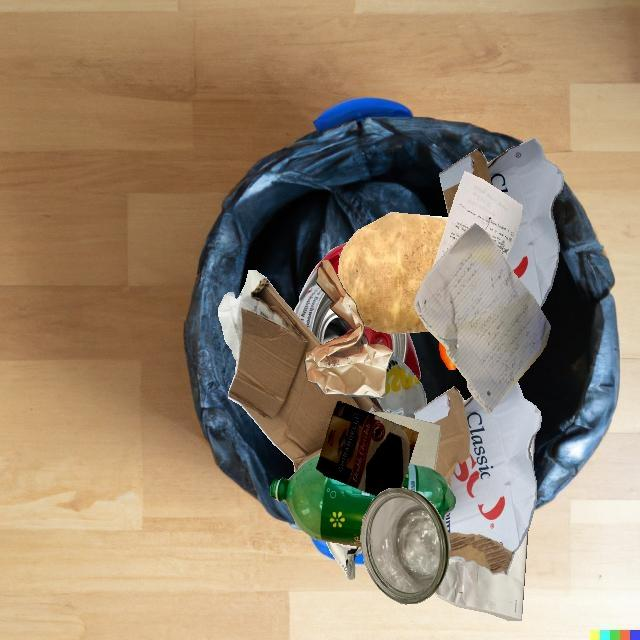biowaste: (338, 212, 448, 334), (439, 341, 456, 370)
cardboard: (218, 270, 386, 473), (414, 381, 541, 575), (439, 138, 564, 308), (316, 401, 418, 496)
glass: (360, 487, 450, 604), (376, 356, 426, 419)
metal: (317, 272, 370, 412), (293, 268, 340, 344), (364, 324, 421, 381)
paper: (414, 223, 551, 413), (305, 260, 394, 399), (432, 171, 523, 267), (435, 529, 528, 621), (367, 412, 441, 471), (326, 541, 362, 581)
plastic: (270, 454, 377, 507), (270, 495, 364, 547)
